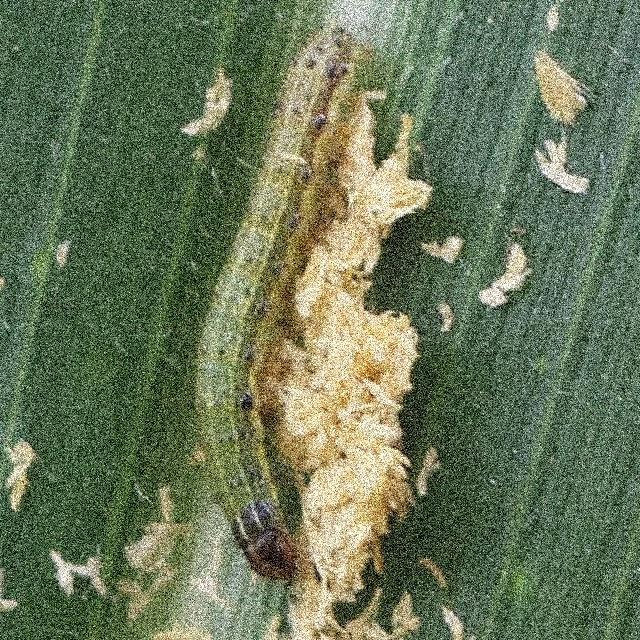Plaga: (189, 26, 370, 592)
